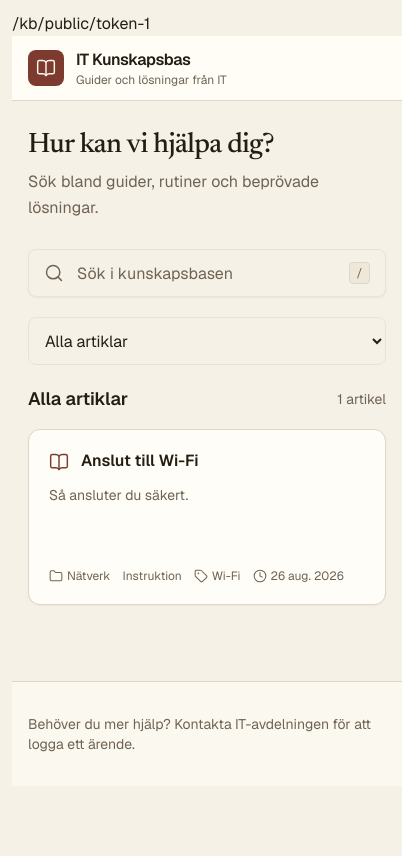
Scenario: PublicKnowledgeBase › har mobil kategori-väljare som uppdaterar URL och artikelhämtning
The image size is (402, 856).
Expected: the heading "Anslut till Wi-Fi" is shown, [81,450,199,472]
Select "Nätverk (2)" in the dropdown named "Filtrera på kategori": {"x": 207, "y": 341} [28,317,386,365]
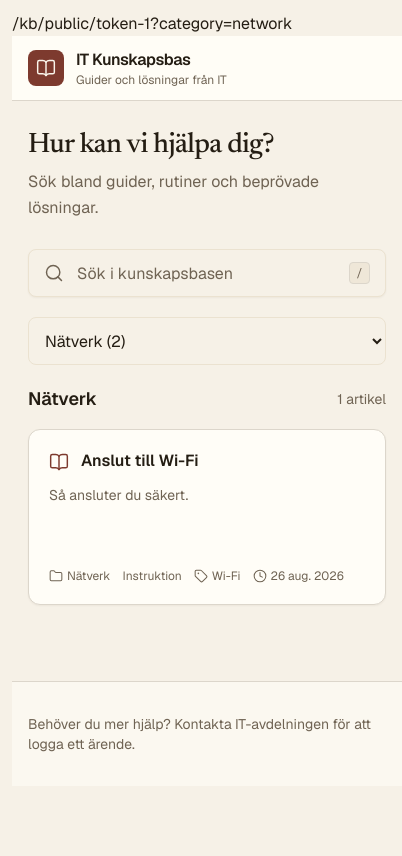
Expected: the text with test id "location" shows "?category=network", [150,13,292,34]
